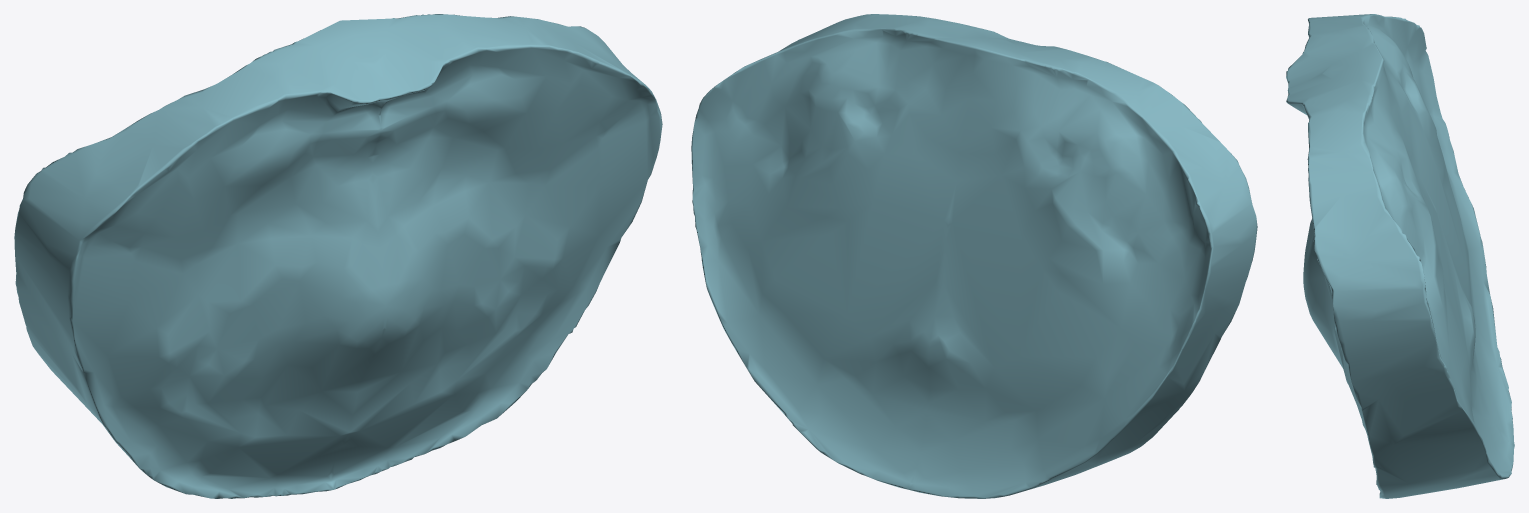
The picture shows the model from 3 angles, left to right: view 1: azimuth 30°, elevation 25°; view 2: azimuth 150°, elevation 25°; view 3: azimuth 270°, elevation 25°; orthographic projection. The views are drawn at different scales.
Parts seen in each view (by area): view 1: 腰4—腰5椎间盘; view 2: 腰4—腰5椎间盘; view 3: 腰4—腰5椎间盘.
Part boxes in pixels (x1,y1,x2,y2): 腰4—腰5椎间盘: [14, 14, 662, 498]; 腰4—腰5椎间盘: [691, 14, 1257, 498]; 腰4—腰5椎间盘: [1286, 14, 1514, 498].
Size of the model in its own units: 0.0747 by 0.0571 by 0.0289.
